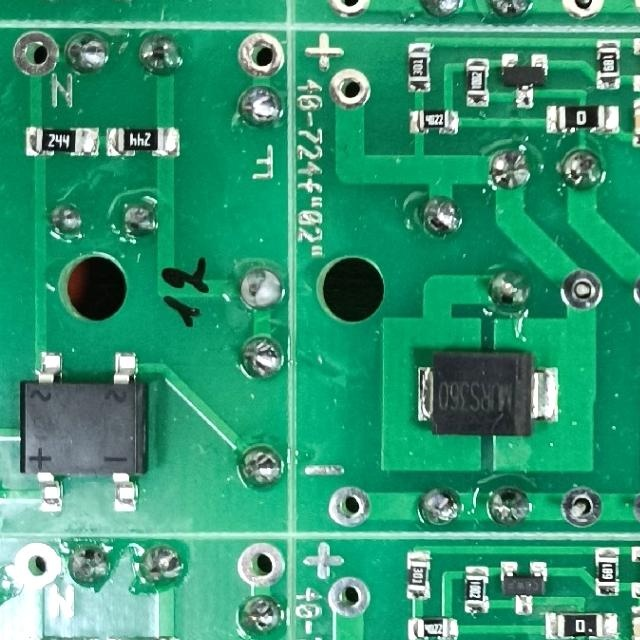chip-resistor: (23, 123, 101, 158), (106, 124, 182, 159), (545, 103, 622, 134), (542, 610, 620, 640), (594, 37, 622, 92), (593, 544, 621, 599), (407, 109, 462, 136), (462, 563, 490, 616), (406, 40, 433, 94), (405, 548, 431, 601), (406, 615, 460, 640), (465, 56, 490, 109)
diode: (416, 348, 561, 438)
ic: (16, 347, 150, 516)
transistor: (499, 52, 551, 110), (500, 559, 549, 616)
